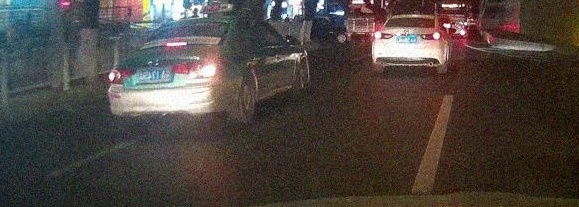L_light: (108, 66, 135, 85), (375, 31, 393, 40)
R_light: (172, 58, 218, 78), (420, 32, 440, 40)
T_light: (166, 42, 187, 46), (406, 17, 415, 19)
night-brake: (107, 16, 233, 126)
night-no: (372, 14, 443, 74)
